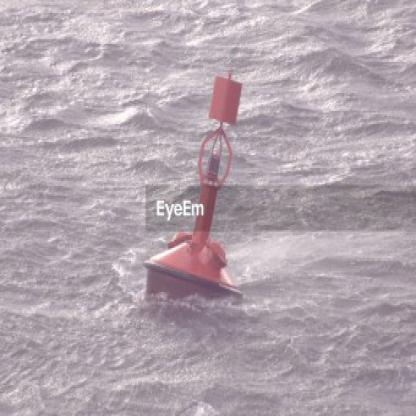buoy: (133, 39, 256, 317)
